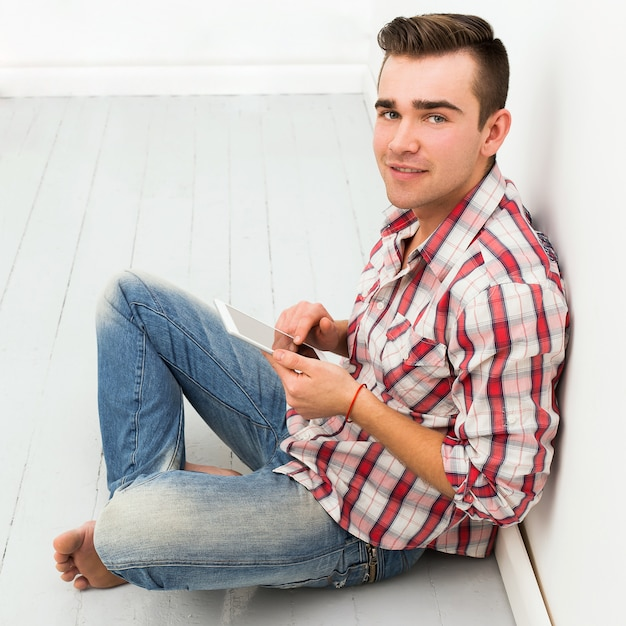young: (364, 10, 520, 228)
